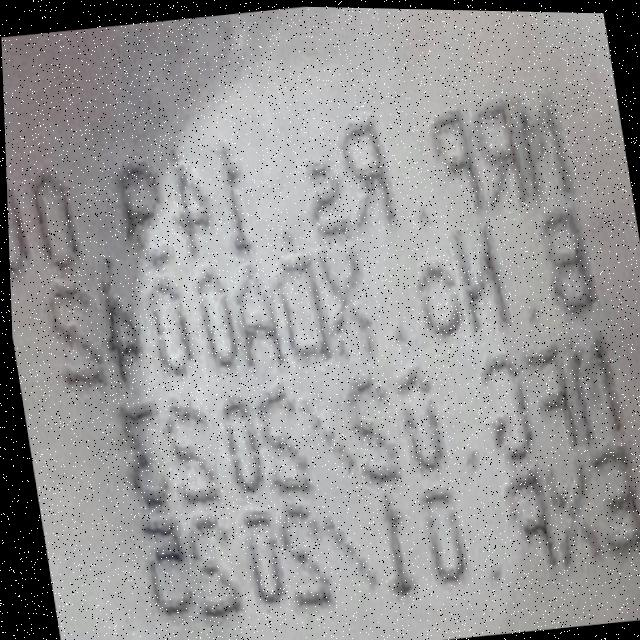sentence: (5, 94, 571, 289), (48, 198, 593, 400), (122, 335, 619, 518), (223, 434, 639, 605), (143, 513, 239, 614)
